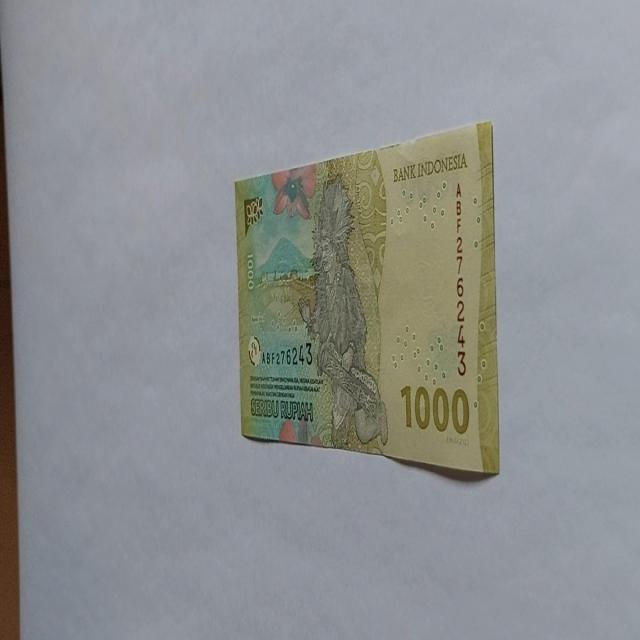seribu rupiah kertas: (234, 118, 501, 478), (303, 172, 388, 448)
